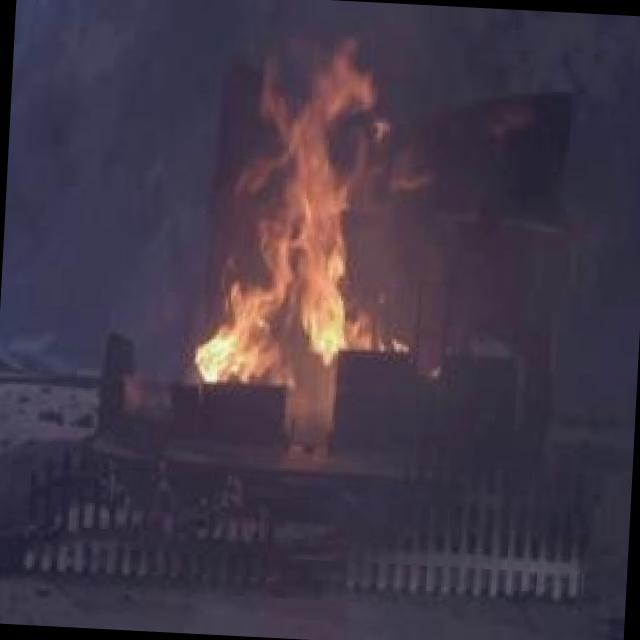fire: (199, 58, 380, 374)
